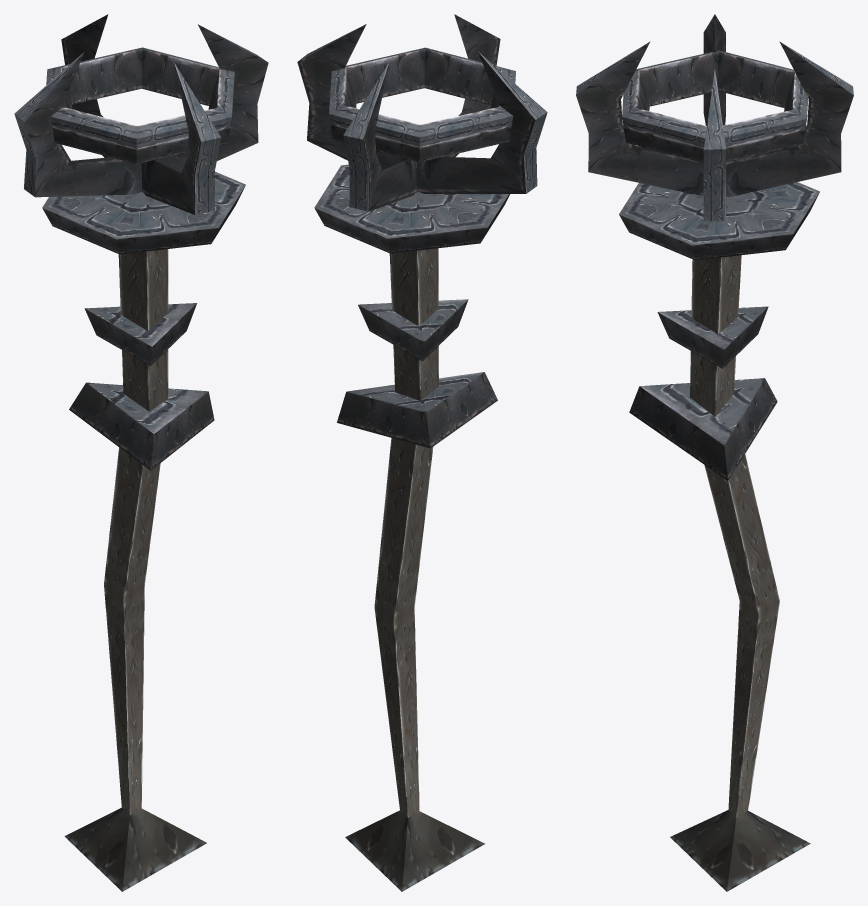
File: blsd_boss_deng_004.FBX
The picture shows the model from 3 angles, left to right: view 1: azimuth 30°, elevation 25°; view 2: azimuth 150°, elevation 25°; view 3: azimuth 270°, elevation 25°; orthographic projection.
Visible parts, largest first — view 1: blsd_boss_deng_004; view 2: blsd_boss_deng_004; view 3: blsd_boss_deng_004.
Part boxes in pixels (<box>): blsd_boss_deng_004: <box>14,14,268,891</box>; blsd_boss_deng_004: <box>297,14,547,891</box>; blsd_boss_deng_004: <box>576,14,853,891</box>.
Bounding box in the file's own units: 115 × 371 × 115.
